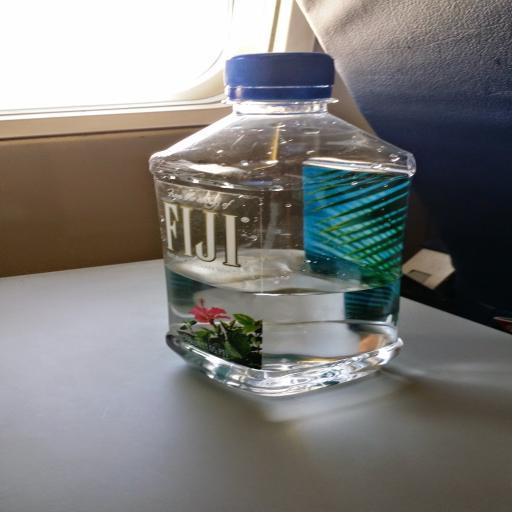bottle: (136, 38, 444, 408)
